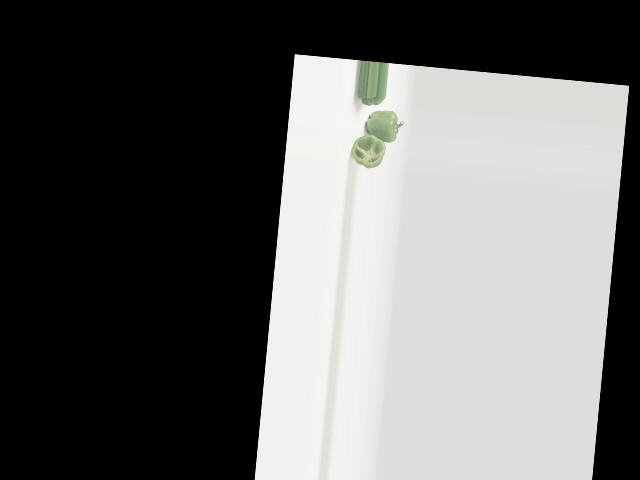bell_pepper: (347, 131, 390, 171)
